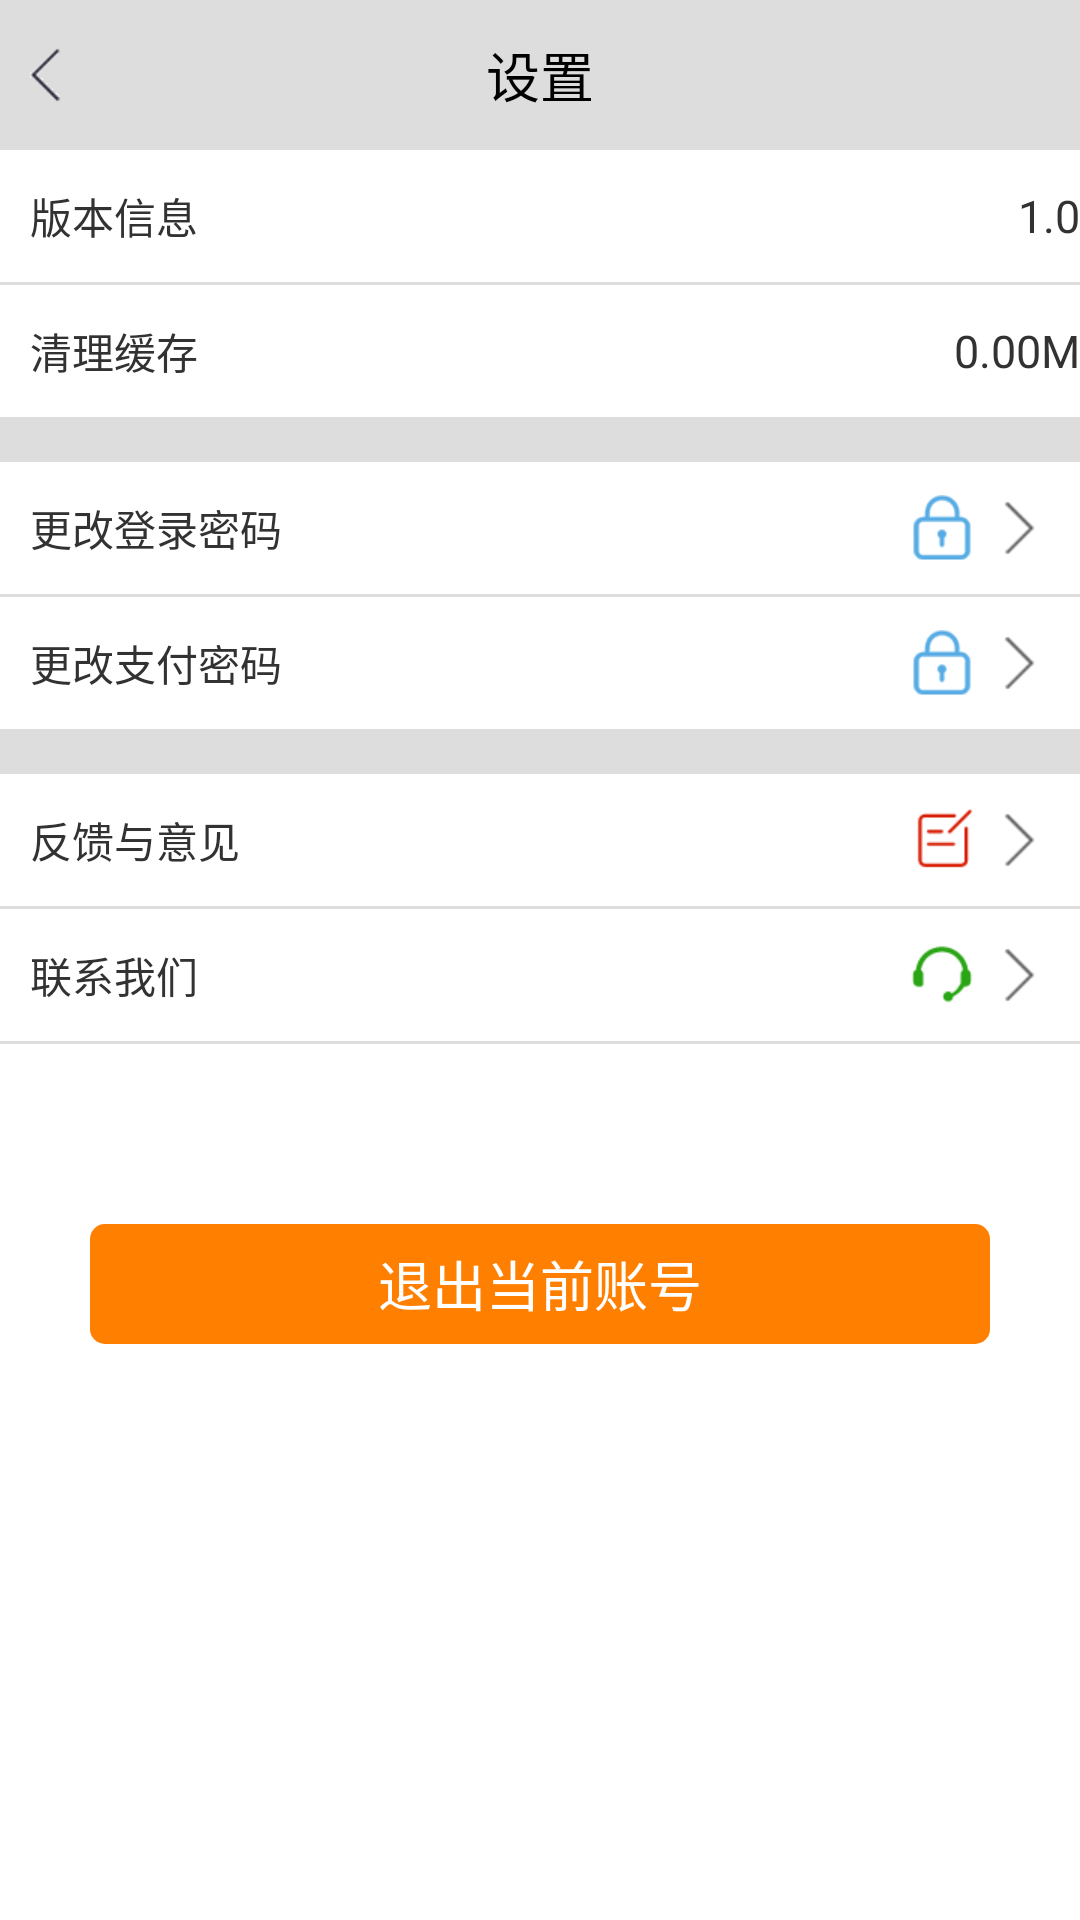

Icons on this 1080px x 1920px Android screen, each with its box as (x1, y1, x2, y2):
fanhui: (31, 49, 60, 101)
fankui: (917, 809, 972, 868)
lianxiwomen: (912, 946, 972, 1002)
mima: (913, 495, 971, 560), (913, 630, 971, 695)
